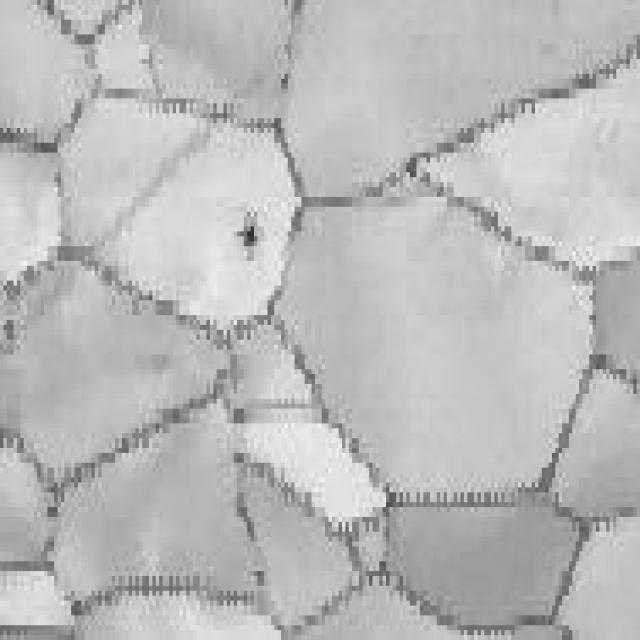good_void: (271, 0, 304, 101), (231, 205, 265, 253)
